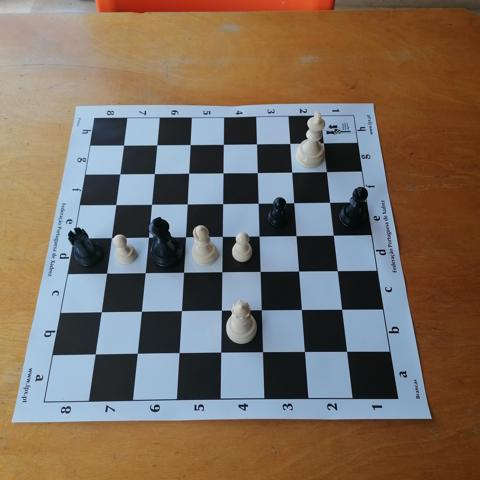xcorner: (172, 347, 187, 362), (214, 347, 229, 362), (256, 347, 271, 362), (340, 346, 355, 361), (134, 305, 149, 320), (174, 305, 189, 320), (336, 304, 351, 319), (99, 266, 114, 281), (293, 265, 308, 280), (141, 230, 156, 245), (180, 196, 195, 211), (216, 196, 231, 211), (252, 196, 267, 211), (288, 196, 303, 211), (147, 165, 162, 180), (182, 165, 197, 180), (251, 165, 266, 180), (286, 165, 301, 180), (150, 136, 165, 151), (217, 136, 232, 151), (284, 136, 299, 151), (88, 348, 103, 362), (130, 348, 145, 362), (298, 347, 313, 361), (94, 305, 108, 320), (215, 305, 230, 319), (255, 305, 270, 319), (296, 304, 310, 319), (138, 266, 152, 281), (177, 266, 191, 281), (215, 266, 230, 280), (254, 266, 269, 280), (332, 265, 346, 280), (104, 230, 118, 245), (179, 230, 193, 245), (216, 230, 231, 244), (253, 230, 268, 244), (291, 229, 305, 244), (328, 229, 342, 244), (108, 197, 123, 211), (144, 197, 159, 211), (324, 196, 339, 210), (112, 166, 127, 180), (217, 165, 231, 180), (116, 137, 131, 151), (184, 136, 198, 151), (251, 136, 265, 151), (321, 165, 335, 179), (318, 136, 332, 150)
